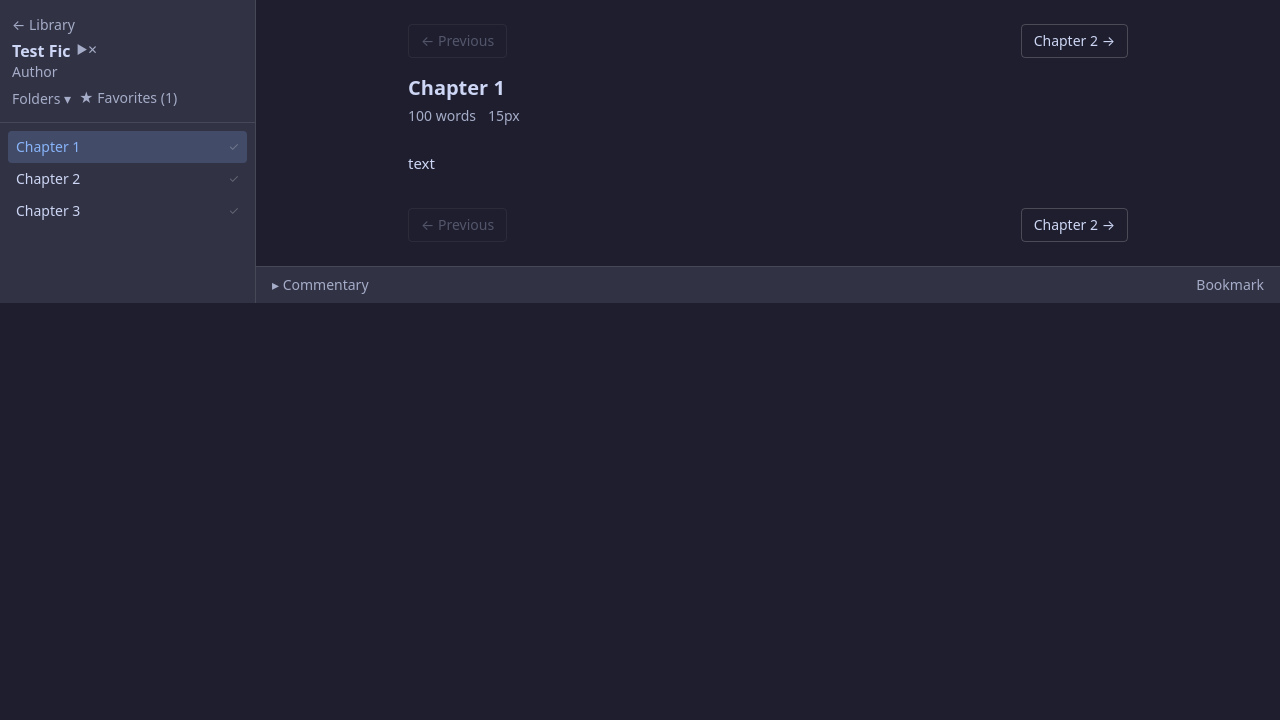
Reader bookmark actions › shows an error instead of failing silently when creating a bookmark fails
This screenshot has width=1280, height=720.
Expected: the button "Chapter 1" is shown, [8,131,220,163]
What coordinates should you click on to do the following:
click the button "Bookmark"
I would click on:
 (1230, 285)
Its box is [1196,275,1264,295].
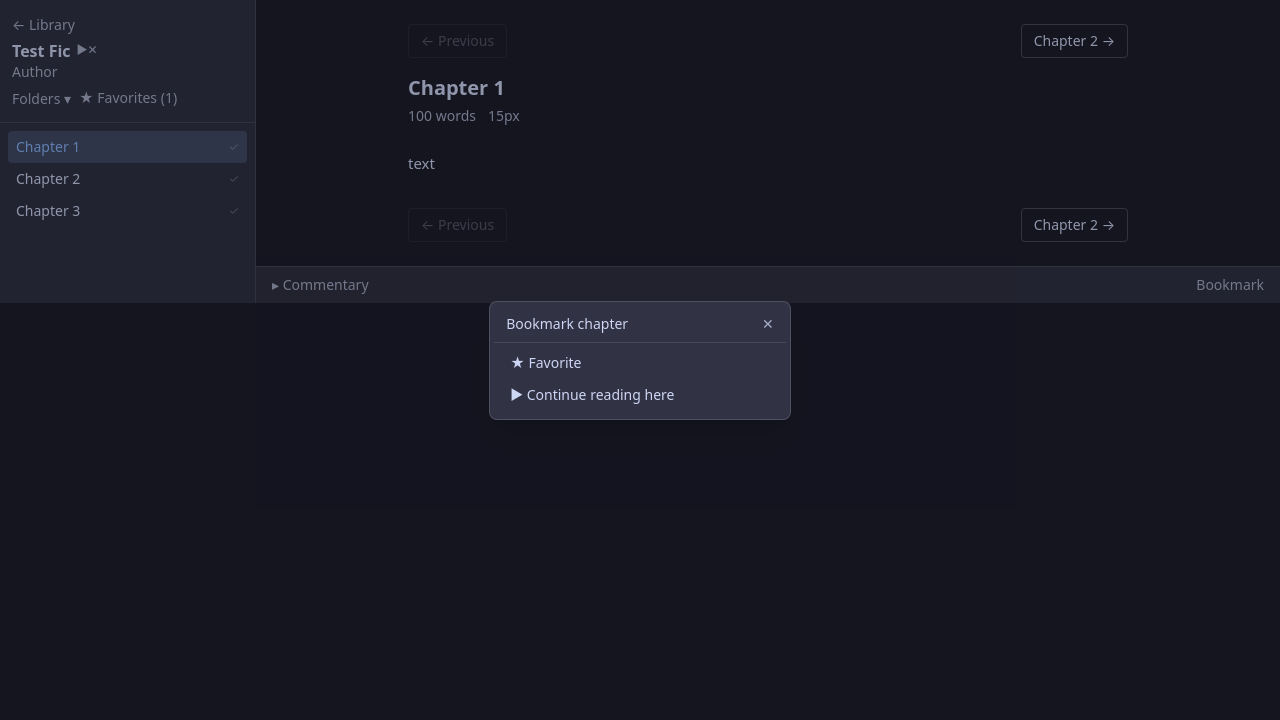
What coordinates should you click on to do the following:
click the button "★ Favorite"
I would click on:
 (546, 362)
Its box is [498,346,782,378].
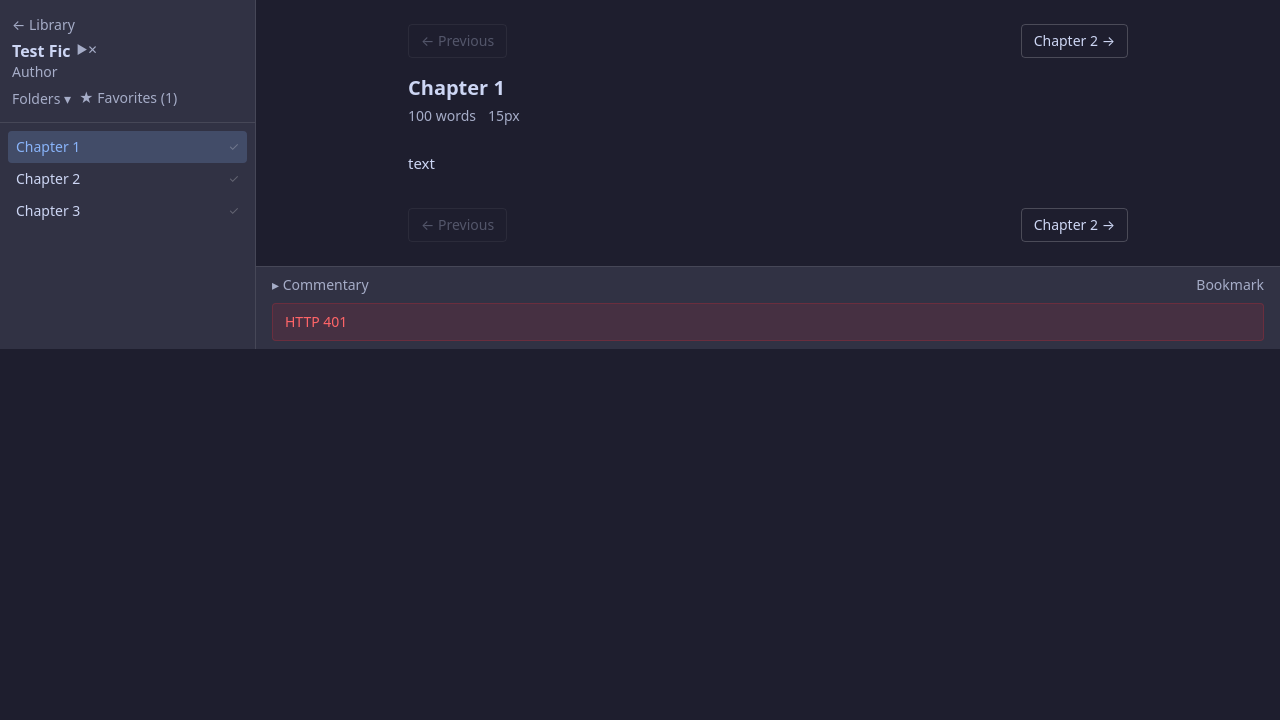
Now the text "HTTP 401" is shown, box [272,303,1264,341]
